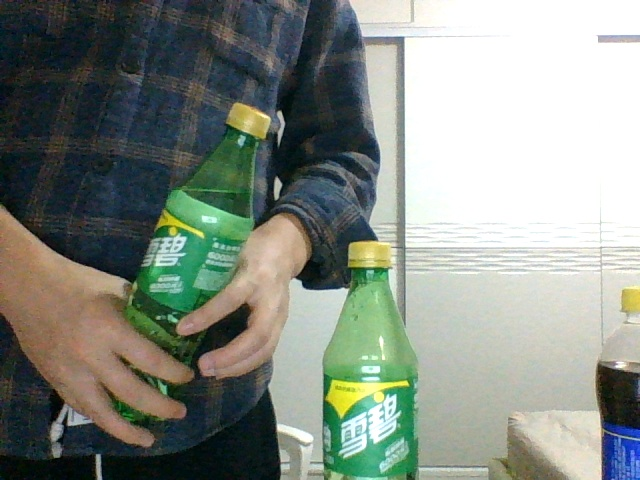Cola: (597, 288, 640, 479)
Sprite: (118, 102, 270, 421), (322, 241, 419, 479)
